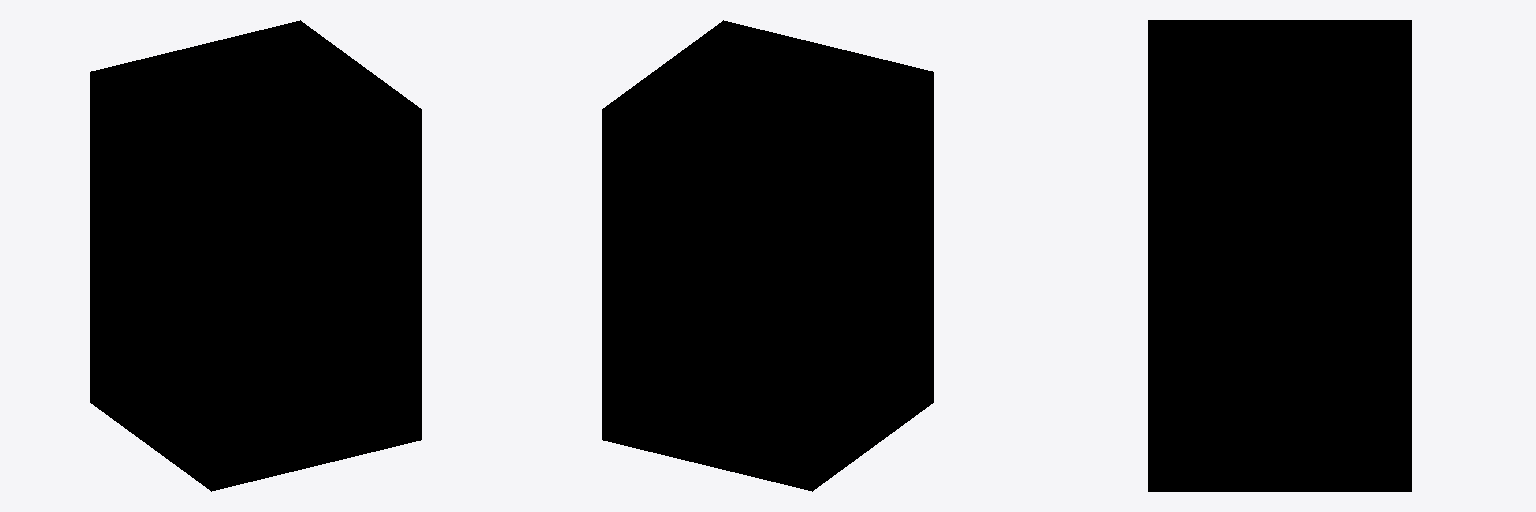
robot.urdf — power_plug:
<?xml version="1.0"?>
<robot name="power_plug">
    <link name="power_plug">
        <visual>
            <geometry>
                <mesh filename="../mesh/contact_mesh/vertical_pull_tight_plug.obj"/>
            </geometry>
            <material name="Blue">
                <color rgba="0 0 0 1"/>
            </material>
        </visual>
        <collision>
            <geometry>
                <mesh filename="../mesh/contact_mesh/vertical_pull_tight_plug.obj"/>
            </geometry>
            <sdf resolution="128"/>
        </collision>
    </link>
</robot>

--- What the picture shows (computed from the rendered views, not written in the file) ---
Views: 3 orthographic renders of the robot side by side, from view 1: azimuth 30°, elevation 25°; view 2: azimuth 150°, elevation 25°; view 3: azimuth 270°, elevation 25°.
Model power_plug with 1 links and 0 joints (none), rooted at power_plug, posed all joints at 0.
Links seen in each view (by area): view 1: power_plug; view 2: power_plug; view 3: power_plug.
Boxes of the visible links, left/top/right/bottom form: power_plug: left=90, top=20, right=421, bottom=491; power_plug: left=602, top=20, right=933, bottom=491; power_plug: left=1148, top=20, right=1411, bottom=491.
Size in the robot's own frame: 0.02 by 0.02 by 0.03 metres.
1 mesh visuals loaded from 1 distinct referenced files (1 OBJ).
